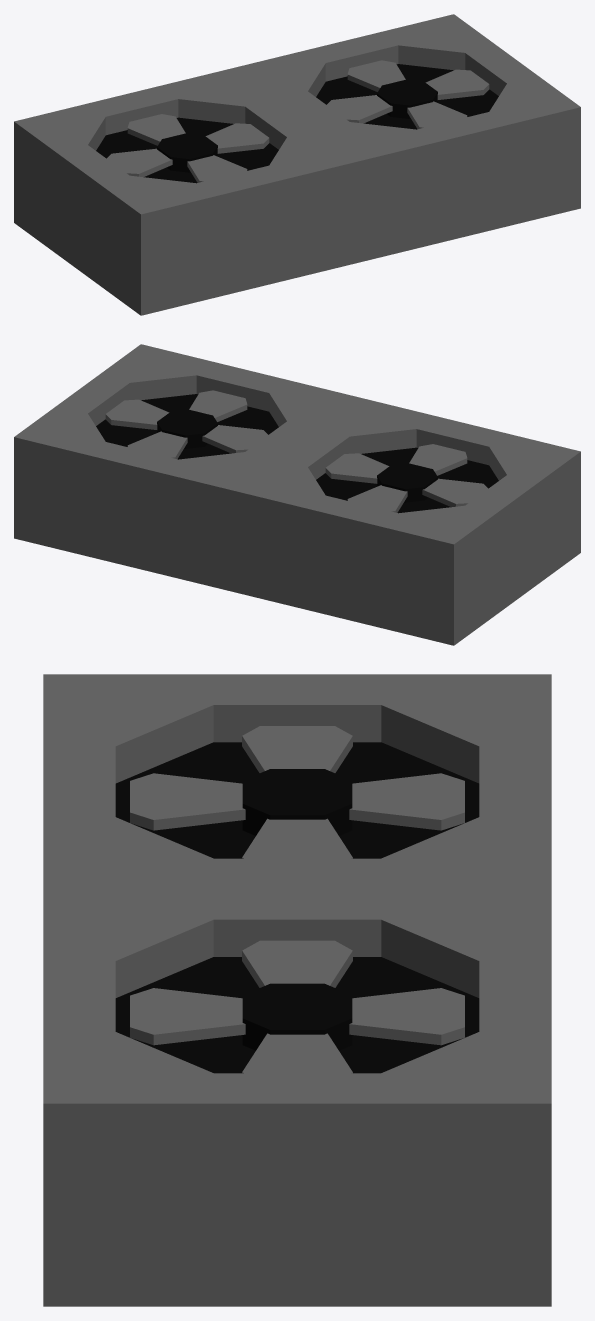
The model's file is Prop_RoofVent_05.fbx.
3 renders of one model, top to bottom at view 1: azimuth 30°, elevation 25°; view 2: azimuth 150°, elevation 25°; view 3: azimuth 270°, elevation 25°, orthographic. The views are drawn at different scales.
Visible parts, largest first — view 1: Prop_RoofVent_05; view 2: Prop_RoofVent_05; view 3: Prop_RoofVent_05.
Boxes of the visible parts, x1,y1,x2,y2 form: Prop_RoofVent_05: [14, 14, 580, 315]; Prop_RoofVent_05: [14, 344, 580, 645]; Prop_RoofVent_05: [43, 674, 551, 1306].
Bounding box in the file's own units: 163 × 35.8 × 81.28.
